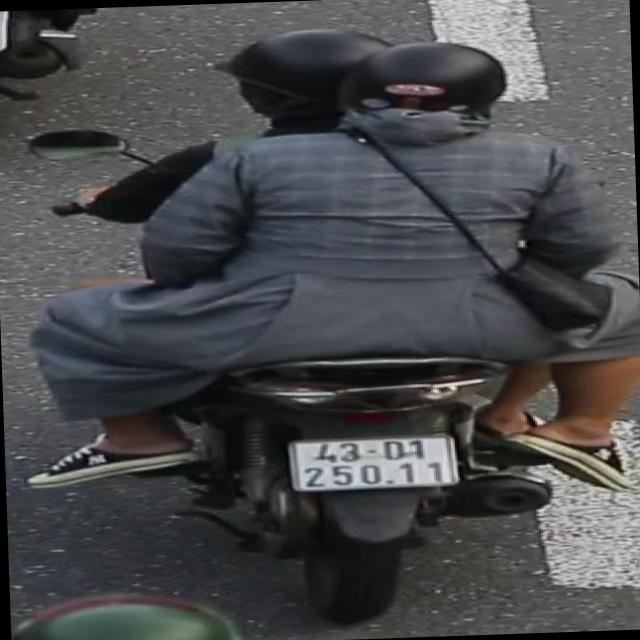LP: (280, 429, 465, 500)
helmet: (215, 20, 404, 136), (338, 33, 520, 138), (10, 596, 255, 640)
